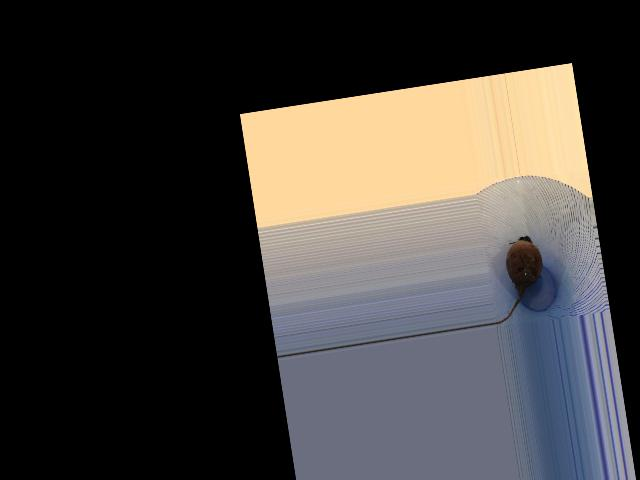beet: (482, 233, 550, 323)
